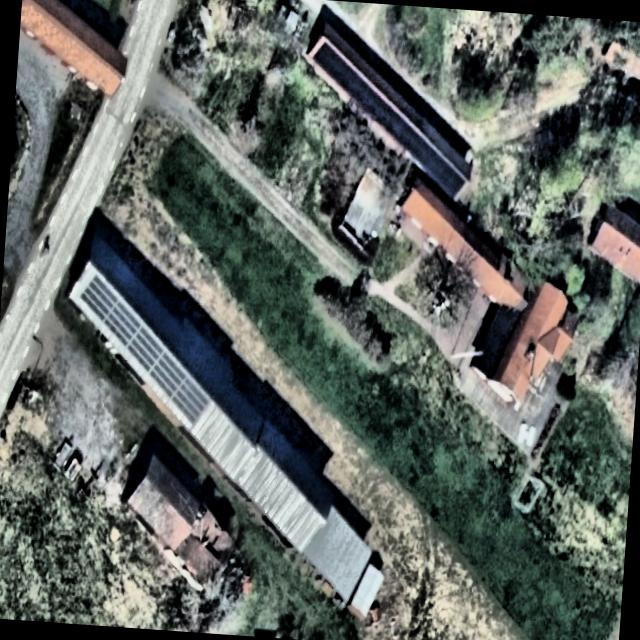roof_pv: (311, 43, 360, 95), (79, 266, 117, 332), (346, 77, 396, 126), (168, 373, 212, 428), (382, 115, 432, 162), (419, 147, 465, 198), (146, 348, 188, 403), (126, 322, 165, 378), (103, 298, 141, 352)
